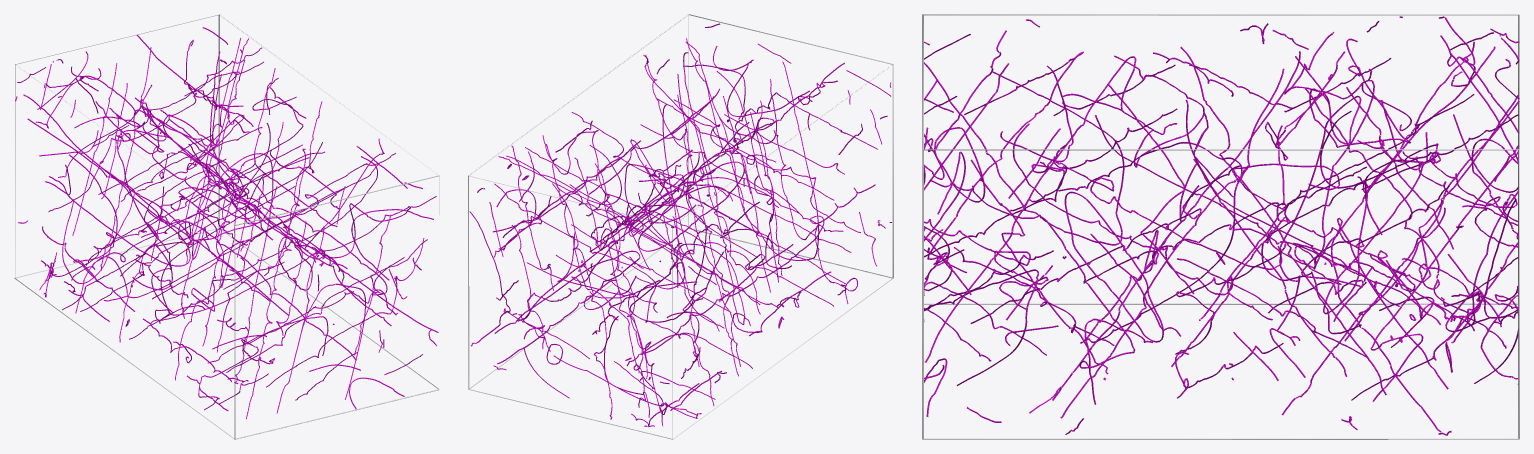
3 renders of one model, left to right at view 1: azimuth 30°, elevation 25°; view 2: azimuth 150°, elevation 25°; view 3: azimuth 270°, elevation 25°, orthographic. The views are drawn at different scales.
Parts seen in each view (by area): view 1: Shape_IndexedLineSet.001, Shape_IndexedLineSet; view 2: Shape_IndexedLineSet.001, Shape_IndexedLineSet; view 3: Shape_IndexedLineSet.001, Shape_IndexedLineSet.
Boxes of the visible parts, x1,y1,x2,y2 form: Shape_IndexedLineSet.001: [15, 27, 438, 418]; Shape_IndexedLineSet: [14, 14, 439, 439]; Shape_IndexedLineSet.001: [469, 23, 891, 426]; Shape_IndexedLineSet: [468, 14, 893, 439]; Shape_IndexedLineSet.001: [924, 16, 1519, 435]; Shape_IndexedLineSet: [922, 14, 1519, 439].
Bounding box in the file's own units: 239 × 239 × 445.
